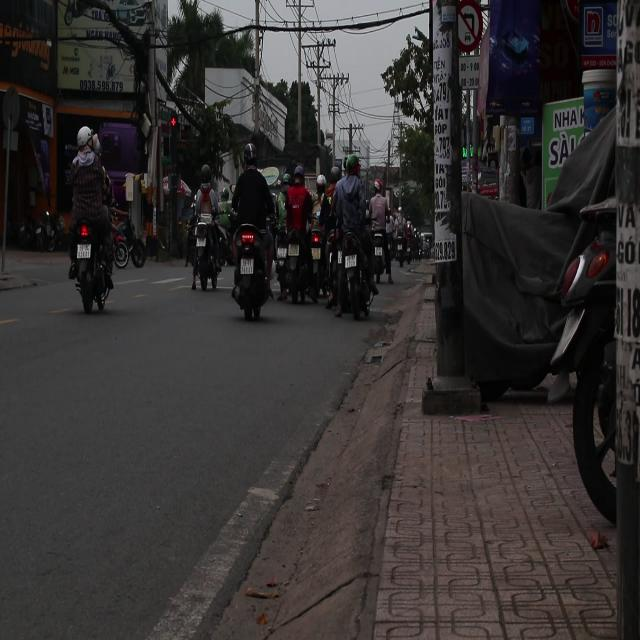motorbike: (230, 221, 274, 320), (68, 223, 114, 314), (340, 231, 374, 320), (193, 214, 219, 294), (112, 216, 140, 268)
